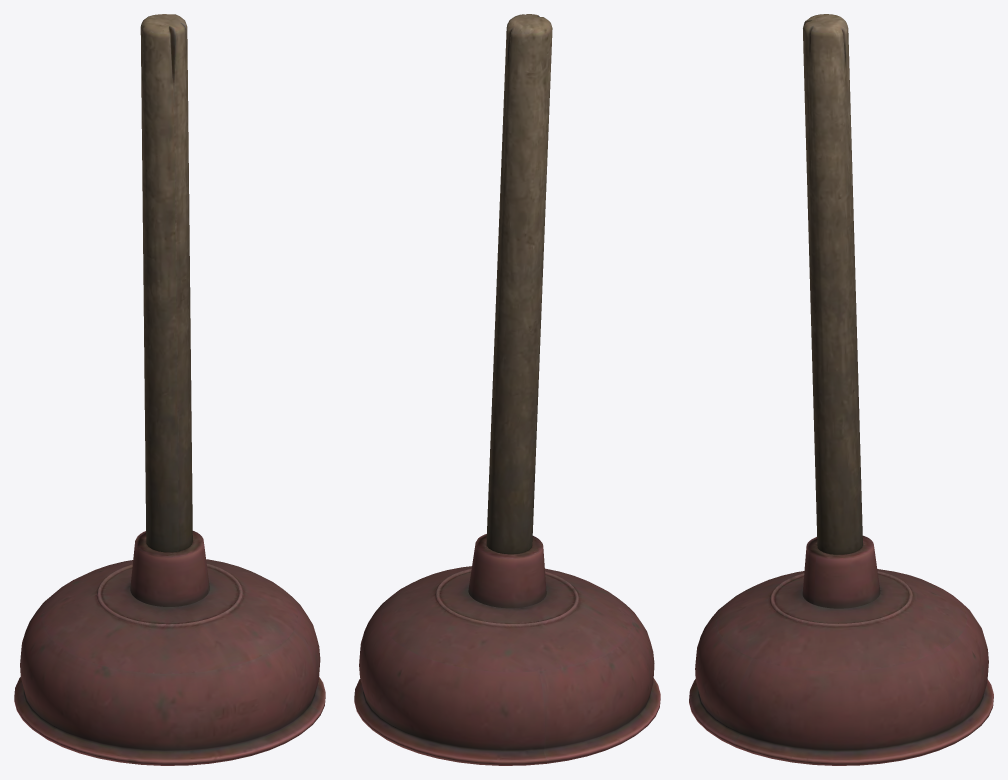
The model's file is plunger.glb.
The picture shows the model from 3 angles, left to right: view 1: azimuth 30°, elevation 25°; view 2: azimuth 150°, elevation 25°; view 3: azimuth 270°, elevation 25°; orthographic projection. The views are drawn at different scales.
Visible parts, largest first — view 1: plunger; view 2: plunger; view 3: plunger.
Boxes of the visible parts, bbox=[...] form: plunger: bbox=[14, 14, 325, 765]; plunger: bbox=[354, 14, 660, 765]; plunger: bbox=[689, 14, 993, 765].
Size of the model in its own units: 0.1721 by 0.4211 by 0.1721.
1 material, 1 textured.
